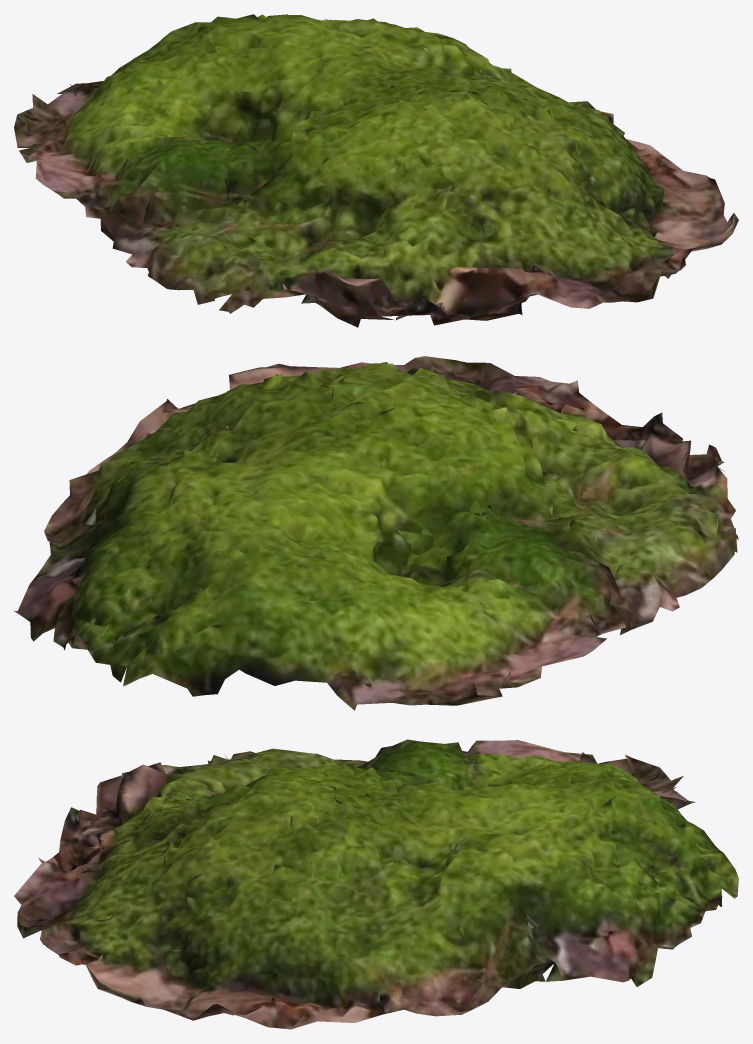
Rendered from moss-clump-real.glb.
The picture shows the model from 3 angles, top to bottom: view 1: azimuth 30°, elevation 25°; view 2: azimuth 150°, elevation 25°; view 3: azimuth 270°, elevation 25°; orthographic projection. The views are drawn at different scales.
Visible parts, largest first — view 1: plant; view 2: plant; view 3: plant.
Boxes of the visible parts, x1,y1,x2,y2 form: plant: (14,14,738,327); plant: (14,356,738,710); plant: (14,739,738,1029).
Bounding box in the file's own units: 4.16 × 0.975 × 5.02.
Materials: 1 (1 with a texture image).
